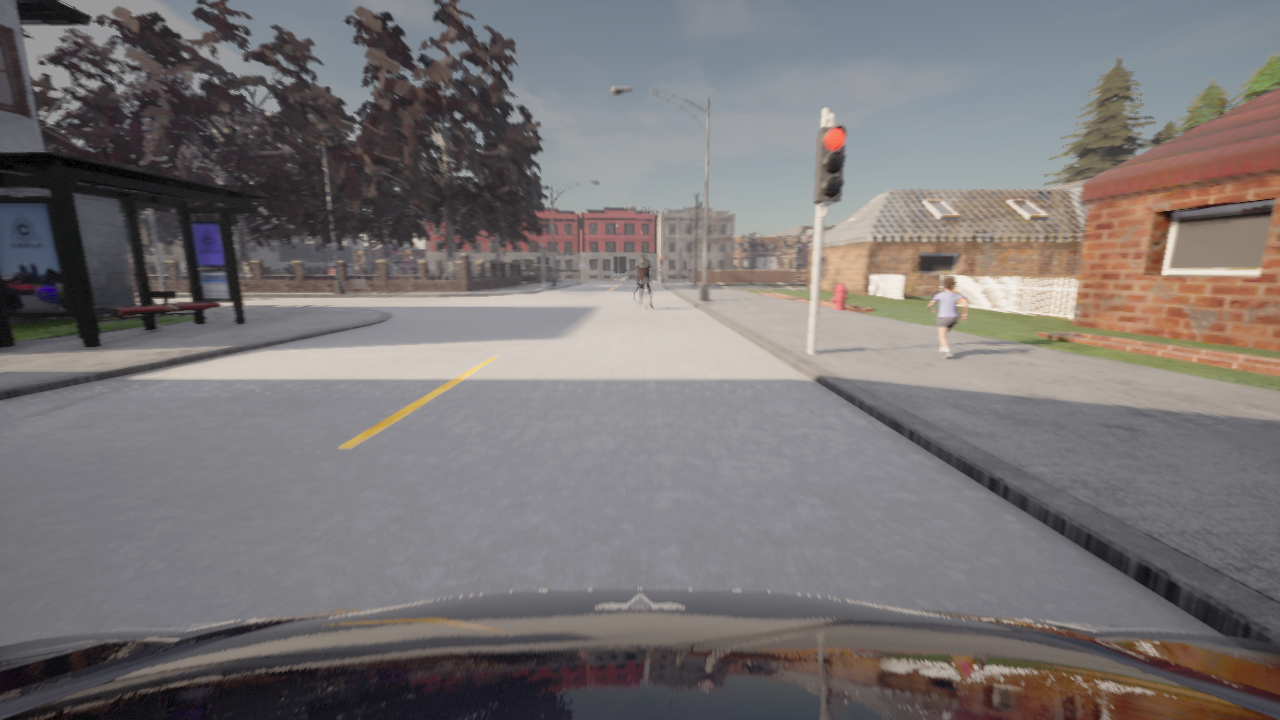cyclist: (0, 588, 1279, 719), (634, 284, 649, 308)
pedestrian: (928, 277, 967, 358)
